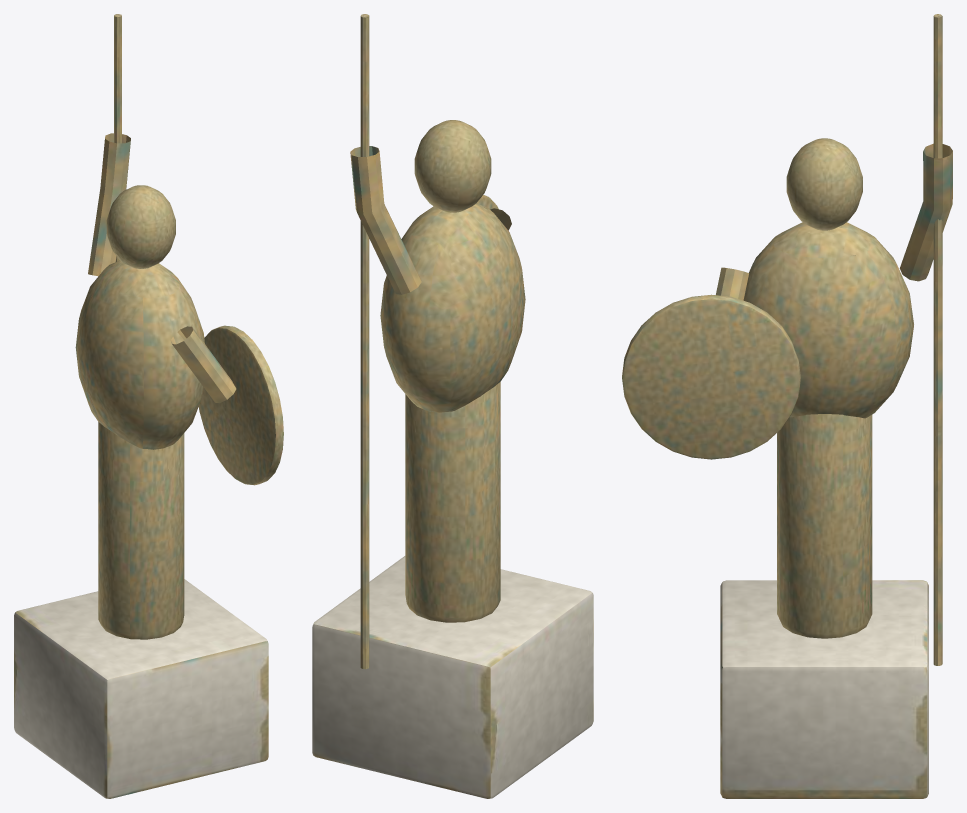
File: statue.glb
3 views of the same model, side by side, from view 1: azimuth 30°, elevation 25°; view 2: azimuth 150°, elevation 25°; view 3: azimuth 270°, elevation 25° (orthographic). The views are drawn at different scales.
Visible parts, largest first — view 1: base, torso, legs, shield, head, arm_spear, arm_shield, spear; view 2: base, torso, legs, spear, head, arm_spear; view 3: base, torso, shield, legs, spear, head, arm_spear, arm_shield.
Part boxes in pixels (x1,y1,x2,y2): base: (14, 579, 268, 798); torso: (75, 260, 204, 449); legs: (98, 422, 184, 639); shield: (198, 325, 283, 485); head: (106, 185, 175, 268); arm_spear: (88, 133, 130, 276); arm_shield: (170, 326, 236, 402); spear: (114, 14, 121, 261); base: (312, 556, 593, 798); torso: (380, 203, 525, 412); legs: (405, 382, 500, 622); spear: (360, 14, 369, 669); head: (414, 120, 491, 212); arm_spear: (350, 146, 421, 294); base: (720, 580, 928, 798); torso: (743, 222, 913, 418); shield: (622, 294, 800, 459); legs: (777, 414, 872, 638); spear: (933, 14, 942, 665); head: (786, 138, 862, 230); arm_spear: (899, 143, 952, 281); arm_shield: (716, 267, 749, 300).
Bounding box in the file's own units: 0.7 × 2.8 × 1.11.
Materials: 1 (1 with a texture image).
